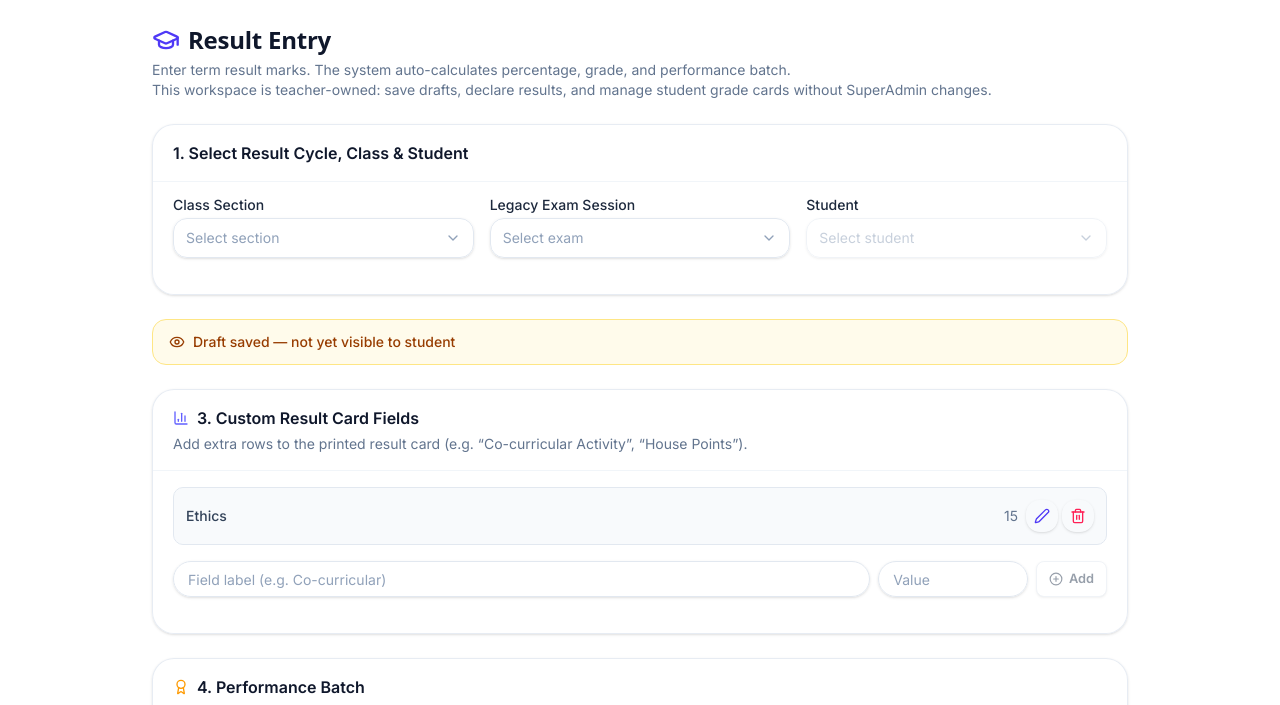
it: teacher grade-entry page › renders saved custom fields and exposes draft edit controls
Expected: the text "Ethics" is shown, [186, 507, 227, 524]
Expected: the text "15" is shown, [1004, 506, 1018, 526]
Click the button named "Edit Ethics". click: [1042, 516]
box: [1026, 500, 1058, 532]
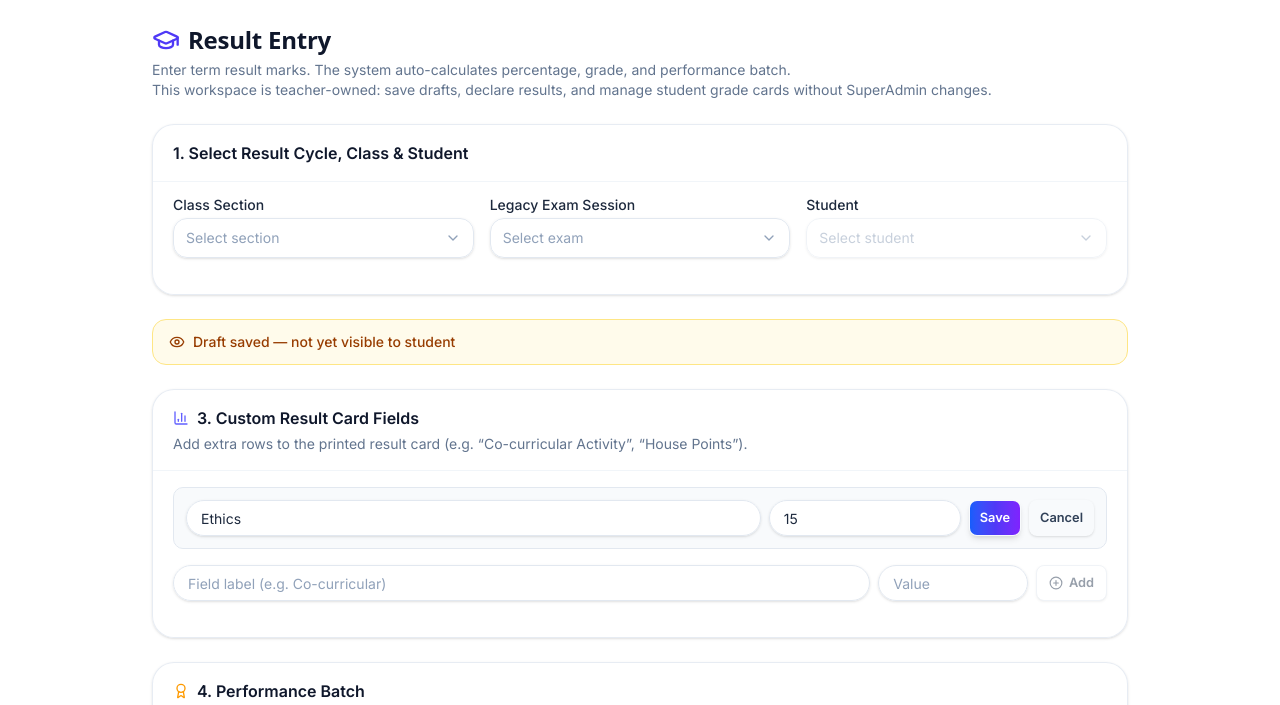
Expected: the button "Save" is enabled, [969, 500, 1021, 536]
Now the field named "Edit label for Ethics" holds "Ethics", box [186, 500, 761, 536]
Now the field named "Edit value for Ethics" holds "15", box [769, 500, 961, 536]
